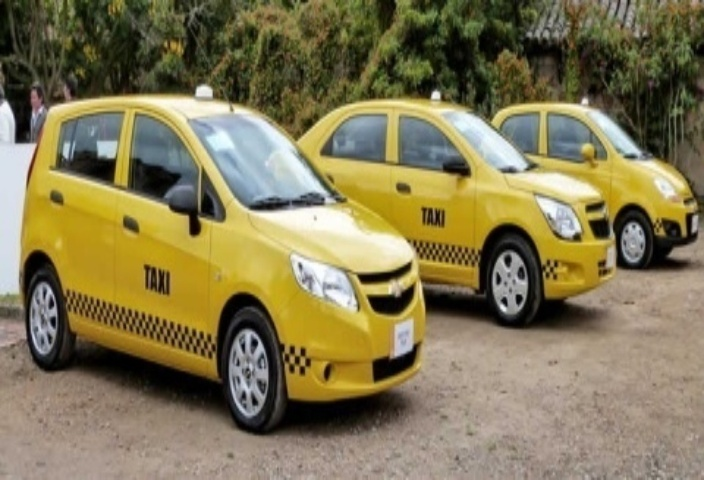taxi: (10, 77, 437, 410), (267, 93, 616, 317), (486, 97, 704, 272)
